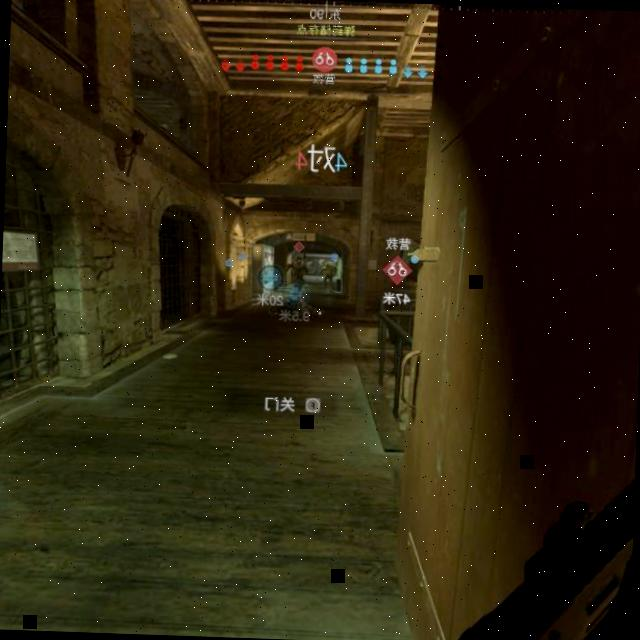MW2_body: (282, 241, 309, 306)
